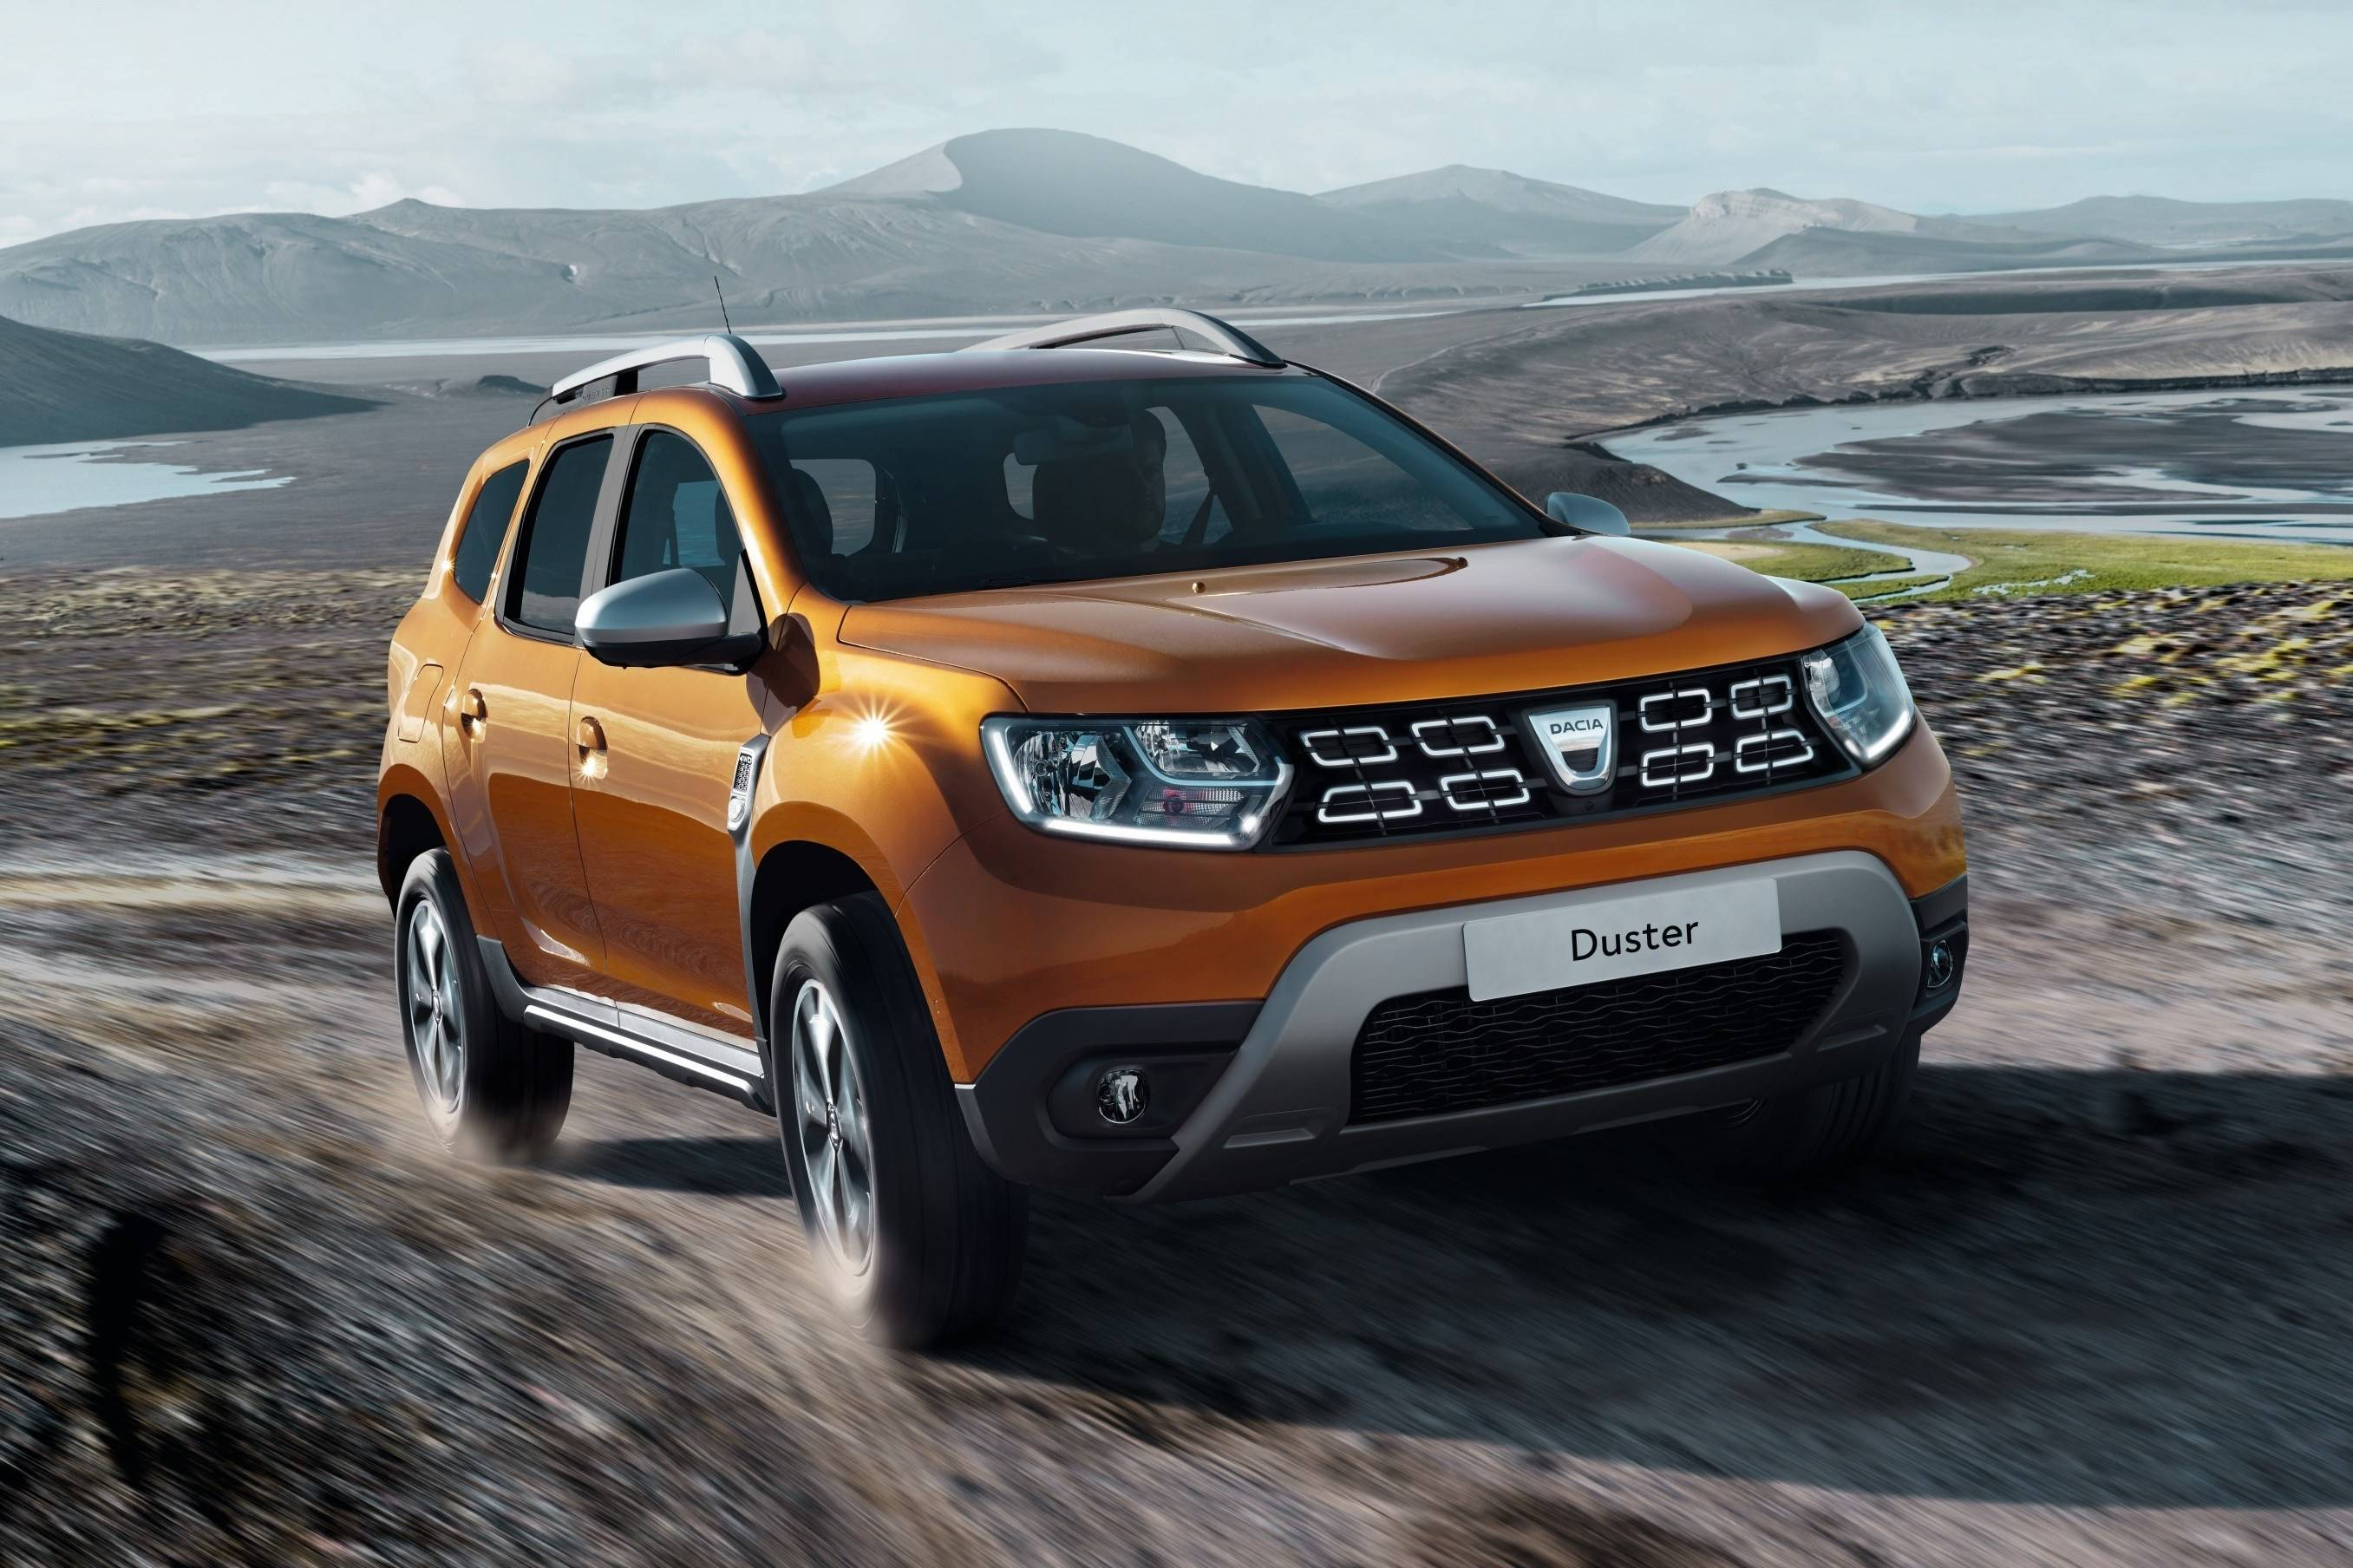Carro: (339, 299, 1998, 1388)
